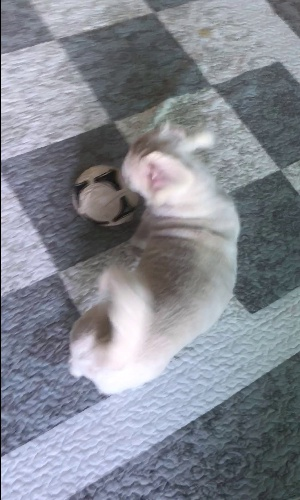ddubi: (62, 116, 243, 397)
